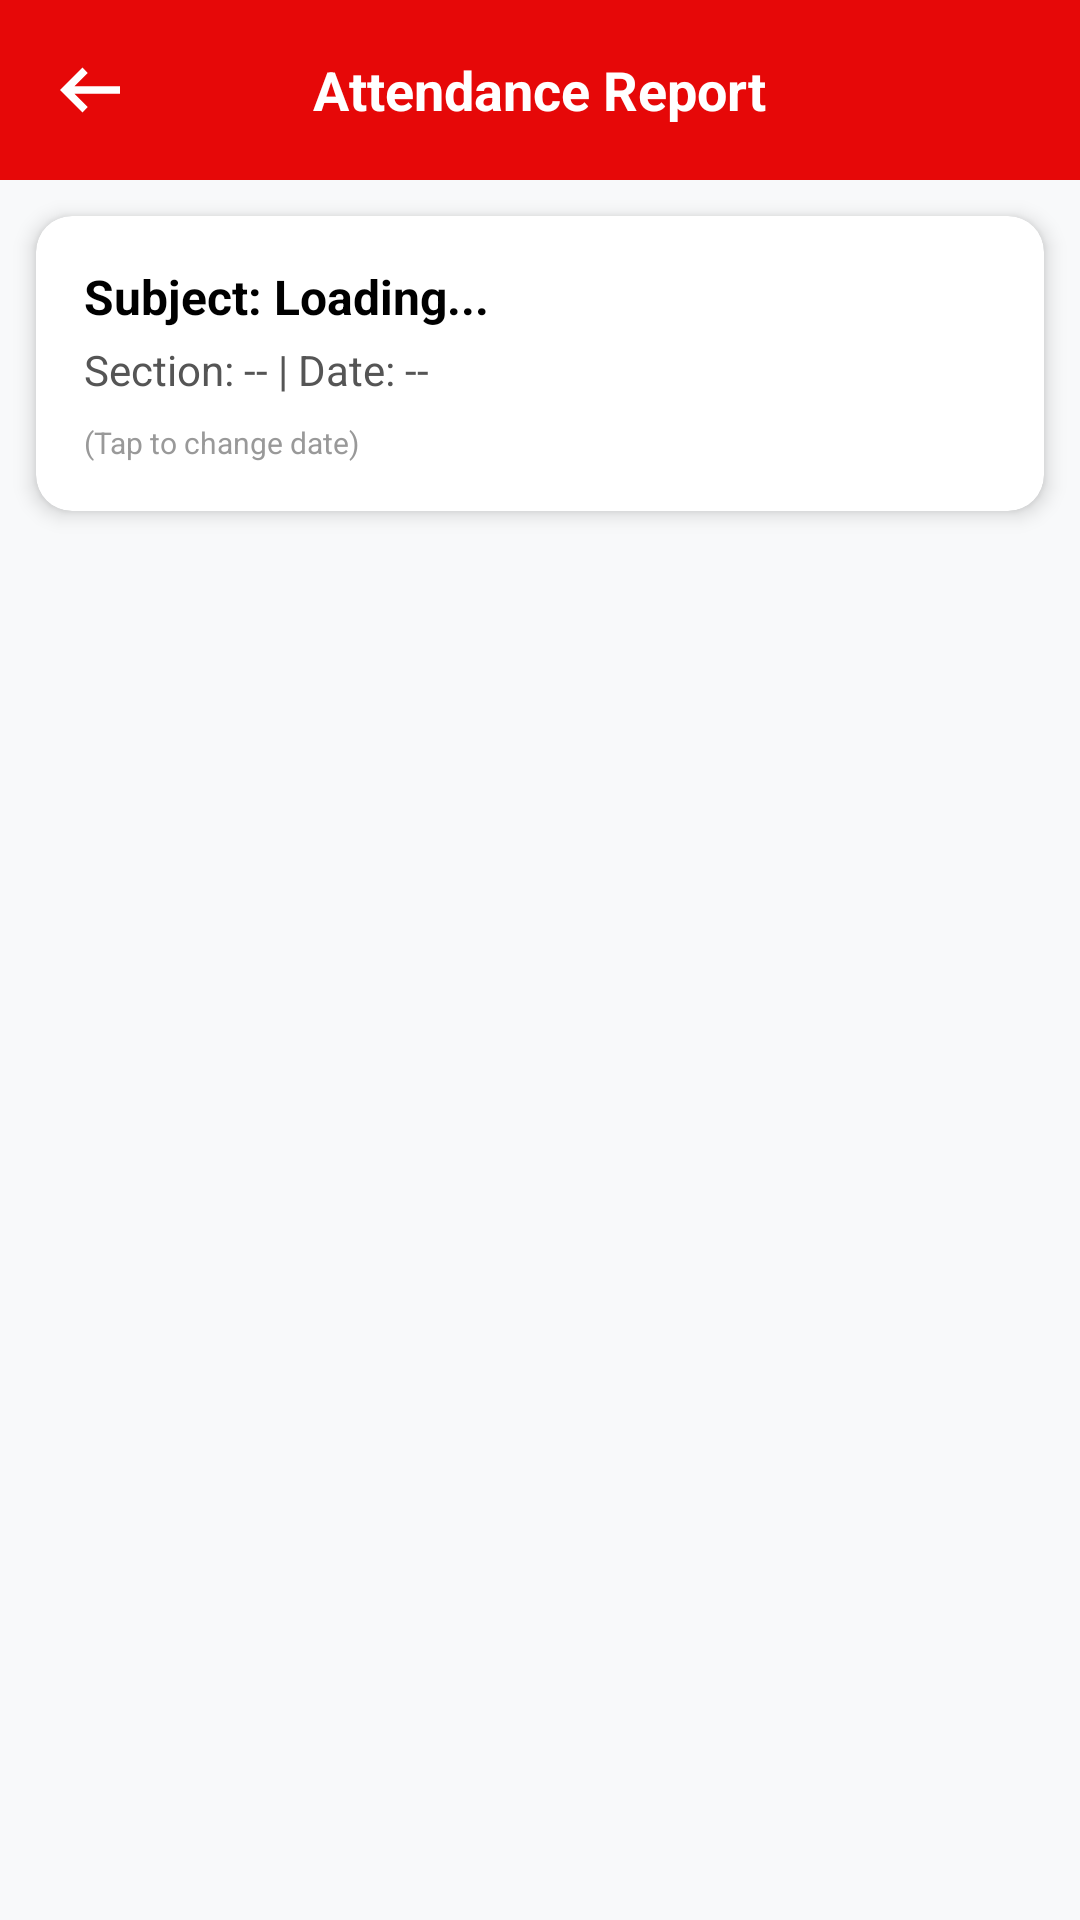

Icon click points for this 1080×1920 phone screenshot, format [x,y]:
back: [90,90]
